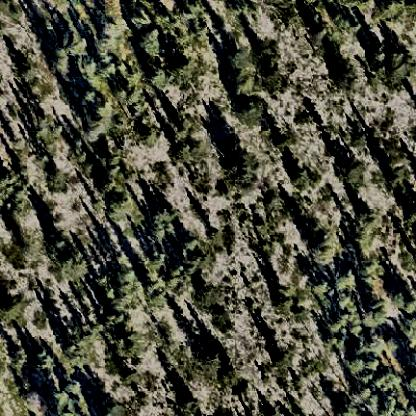tree-top: (364, 46, 416, 98), (306, 228, 344, 268), (222, 149, 259, 188), (348, 208, 384, 248), (334, 153, 370, 190), (176, 242, 212, 274), (56, 249, 92, 281), (330, 59, 362, 93), (137, 27, 168, 61), (146, 201, 177, 233), (103, 191, 135, 222), (235, 95, 268, 125), (19, 388, 54, 416), (199, 345, 228, 374), (223, 45, 251, 75), (46, 45, 73, 76), (169, 57, 197, 86), (29, 349, 57, 378), (14, 232, 40, 262), (118, 267, 142, 299), (193, 283, 222, 309), (289, 165, 315, 191), (45, 168, 70, 194), (270, 346, 295, 372), (345, 355, 370, 381), (370, 367, 396, 392), (170, 140, 197, 164), (334, 267, 358, 293), (15, 59, 39, 85), (80, 85, 104, 111), (1, 295, 21, 324), (105, 310, 126, 336), (177, 394, 200, 416), (380, 1, 408, 19), (81, 120, 103, 142), (400, 318, 416, 348), (370, 301, 389, 326), (97, 398, 123, 416), (385, 168, 405, 191), (92, 42, 114, 62), (326, 315, 348, 335), (101, 18, 122, 38), (378, 396, 397, 416), (65, 379, 85, 397), (312, 23, 330, 43), (1, 171, 17, 191), (278, 132, 292, 154), (404, 206, 416, 228), (405, 370, 416, 393), (127, 368, 141, 386)
